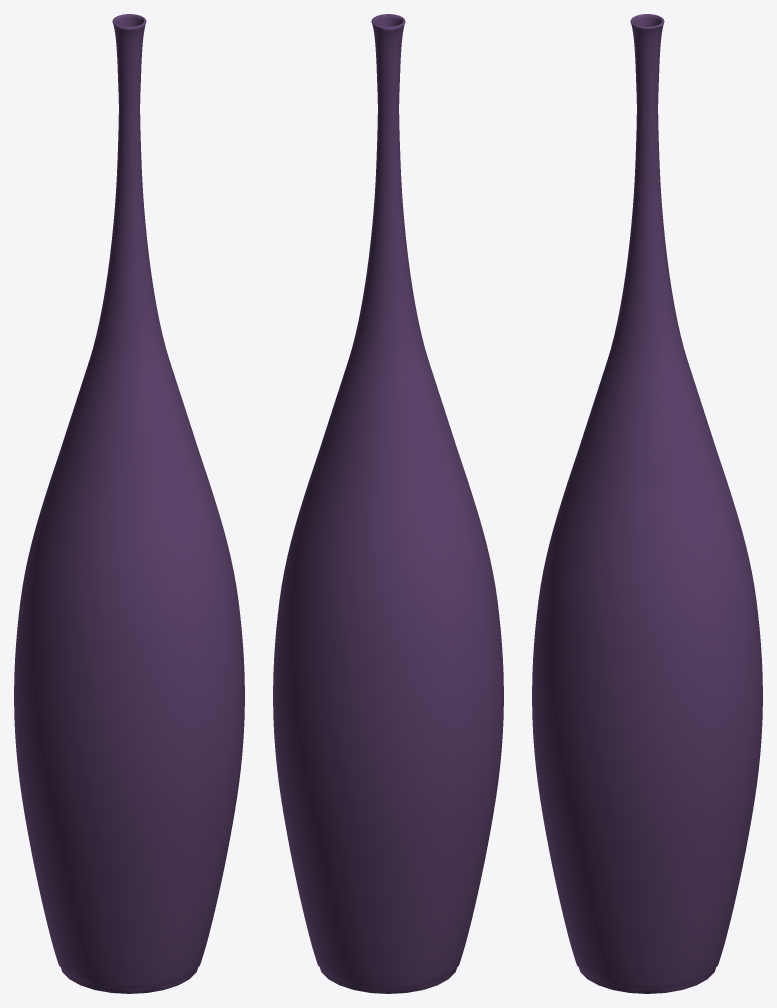
The model's file is Pot9.fbx.
The picture shows the model from 3 angles, left to right: view 1: azimuth 30°, elevation 25°; view 2: azimuth 150°, elevation 25°; view 3: azimuth 270°, elevation 25°; orthographic projection.
Parts seen in each view (by area): view 1: Pot9; view 2: Pot9; view 3: Pot9.
Part boxes in pixels (left/top/right/bottom): Pot9: left=14, top=14, right=244, bottom=993; Pot9: left=273, top=14, right=503, bottom=993; Pot9: left=532, top=14, right=762, bottom=993.
Bounding box in the file's own units: 0.0863 × 0.3895 × 0.0863.
